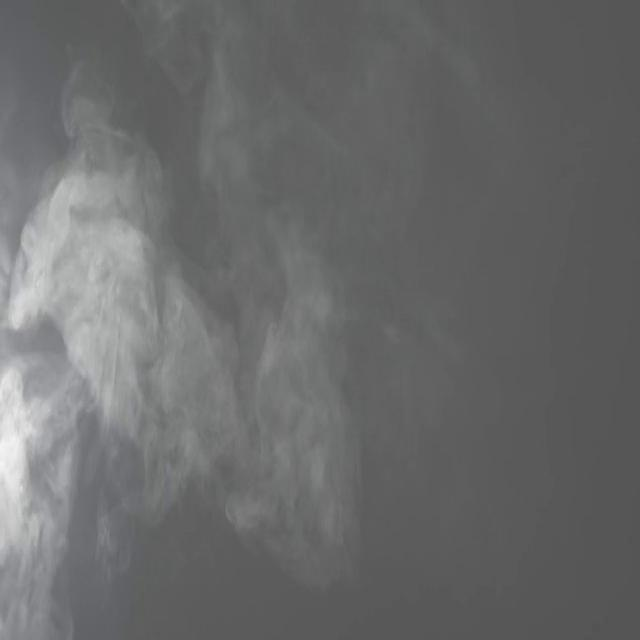smoke: (33, 152, 171, 336), (210, 346, 332, 550), (0, 352, 84, 638), (258, 215, 352, 363), (102, 340, 200, 464), (10, 227, 101, 357), (95, 473, 182, 581), (300, 437, 364, 570)
